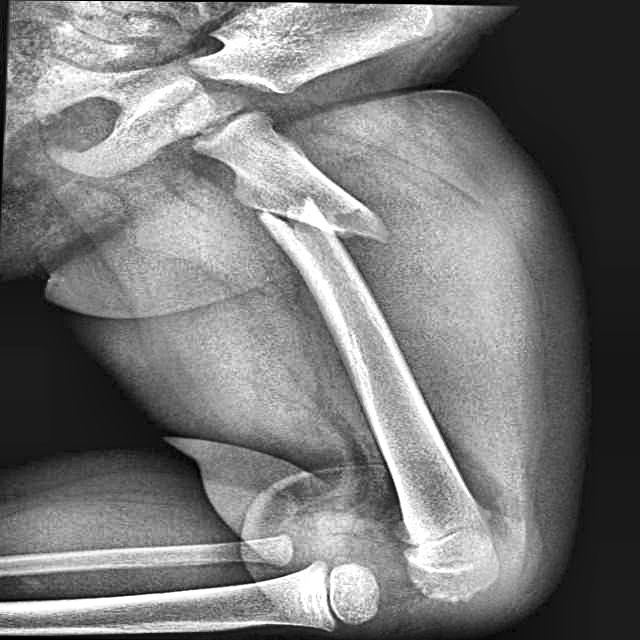Oblique: (230, 180, 407, 263)
